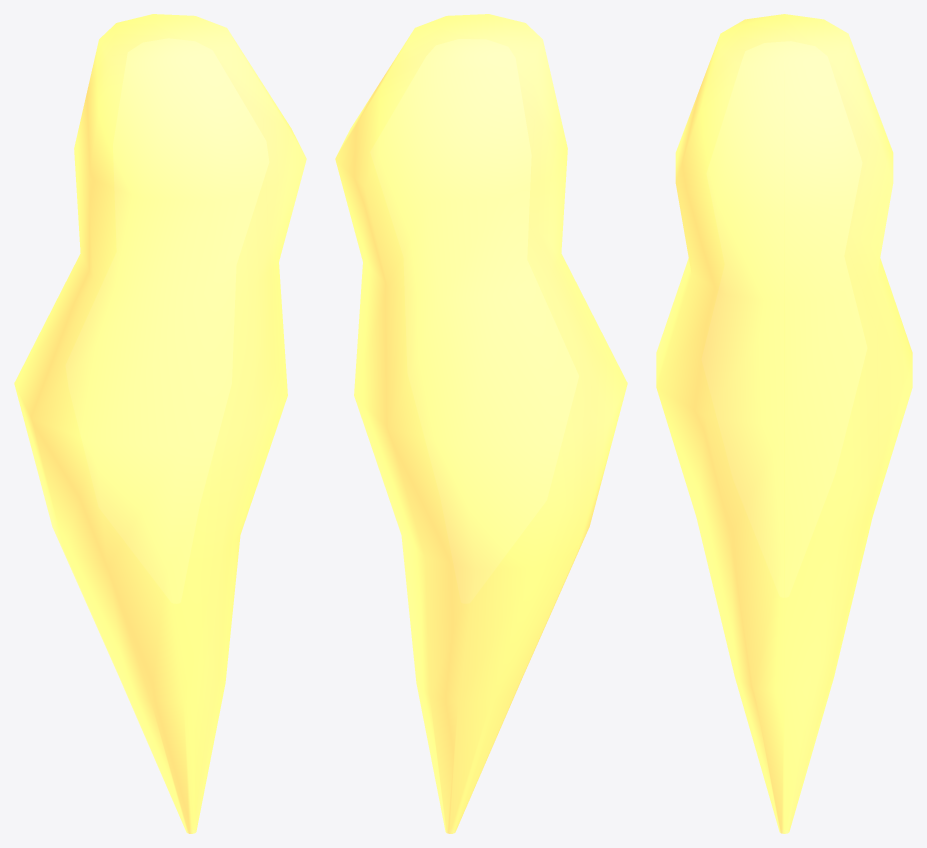
Rendered from flame.glb.
3 views of the same model, side by side, from view 1: azimuth 30°, elevation 25°; view 2: azimuth 150°, elevation 25°; view 3: azimuth 270°, elevation 25° (orthographic). The views are drawn at different scales.
Parts seen in each view (by area): view 1: Outer Amber Flame; view 2: Outer Amber Flame; view 3: Outer Amber Flame.
Part boxes in pixels (x1,y1,x2,y2): Outer Amber Flame: (14,14,306,833); Outer Amber Flame: (335,14,627,833); Outer Amber Flame: (656,14,912,833).
Size of the model in its own units: 0.1744 by 0.51 by 0.1522.
